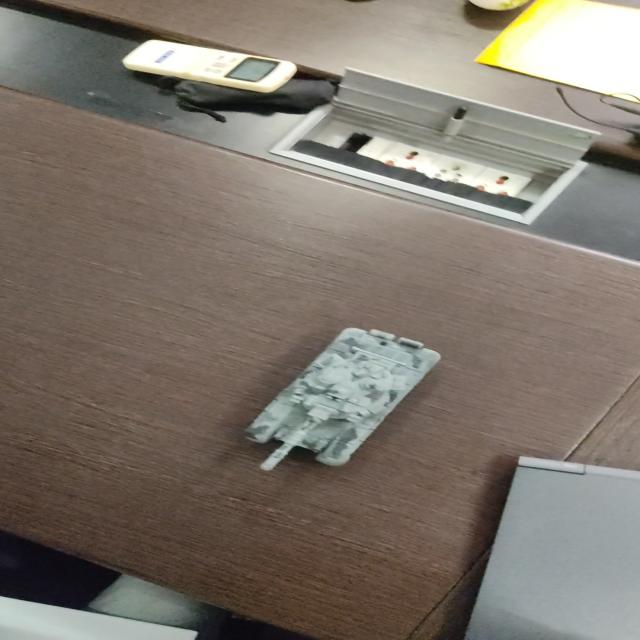tank: (229, 318, 452, 475)
